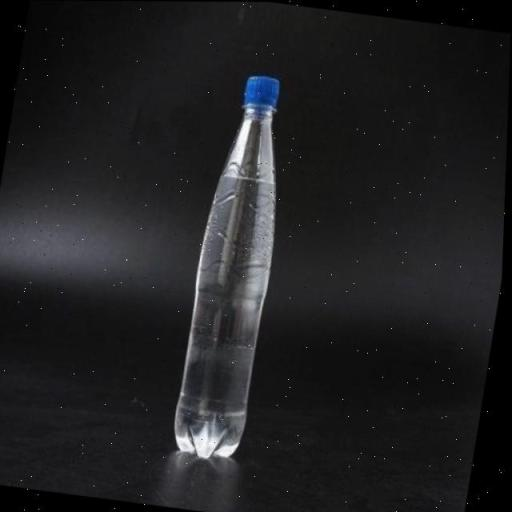plastic: (168, 66, 306, 468)
